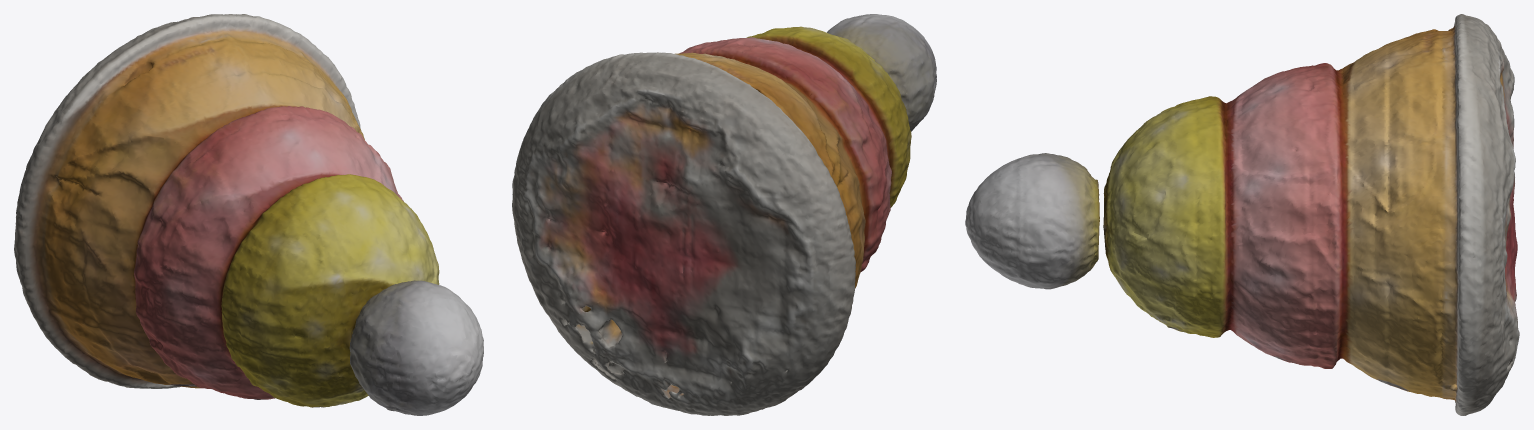
Rendered from chicken.glb.
3 views of the same model, side by side, from view 1: azimuth 30°, elevation 25°; view 2: azimuth 150°, elevation 25°; view 3: azimuth 270°, elevation 25° (orthographic). The views are drawn at different scales.
Size of the model in its own units: 0.7249 by 0.7269 by 0.9996.
